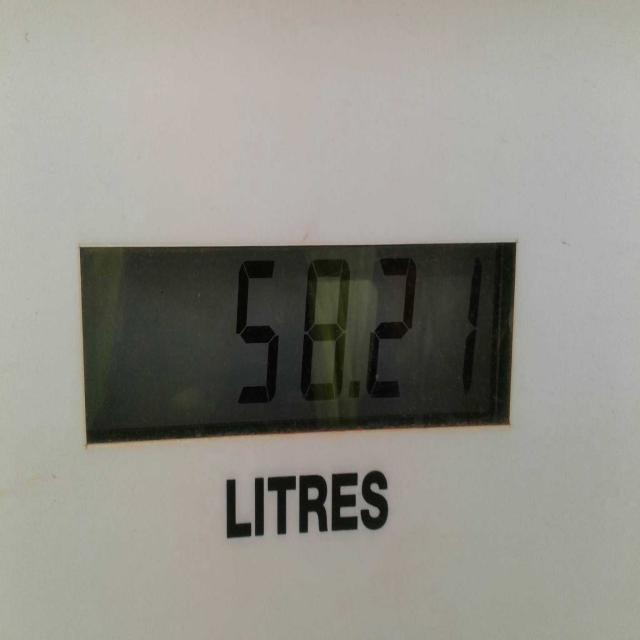.: (354, 378, 362, 394)
1: (458, 253, 482, 398)
2: (368, 261, 418, 401)
5: (234, 258, 279, 410)
8: (302, 263, 351, 404)
